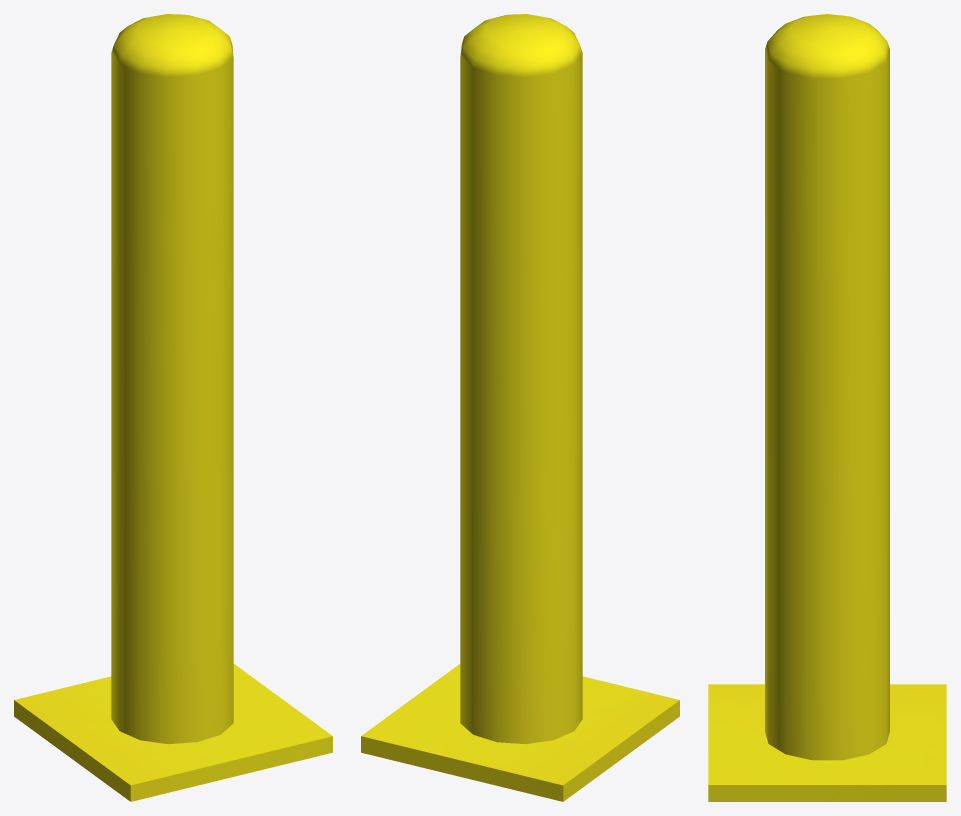
Rendered from ParkingLot_Barricade.fbx.
3 views of the same model, side by side, from view 1: azimuth 30°, elevation 25°; view 2: azimuth 150°, elevation 25°; view 3: azimuth 270°, elevation 25° (orthographic). The views are drawn at different scales.
Parts seen in each view (by area): view 1: ParkingLot_Barricade; view 2: ParkingLot_Barricade; view 3: ParkingLot_Barricade.
Part boxes in pixels (x1,y1,x2,y2): ParkingLot_Barricade: (14,14,332,801); ParkingLot_Barricade: (361,14,679,801); ParkingLot_Barricade: (708,14,946,801).
Size of the model in its own units: 30.87 by 103 by 30.87.
Materials: 1 (1 with a texture image).
